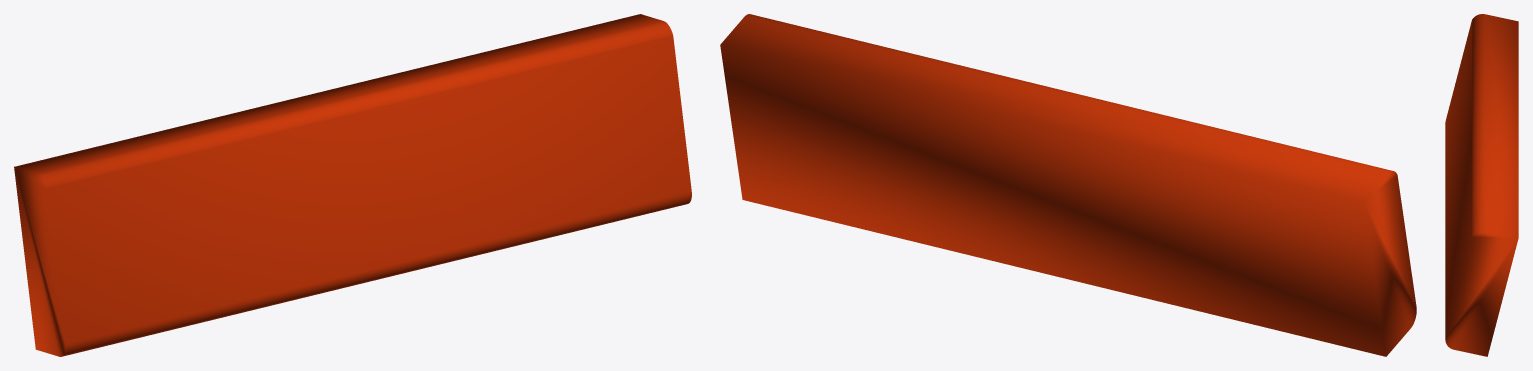
Rendered from original-4.obj.
The picture shows the model from 3 angles, left to right: view 1: azimuth 30°, elevation 25°; view 2: azimuth 150°, elevation 25°; view 3: azimuth 270°, elevation 25°; orthographic projection. The views are drawn at different scales.
Parts seen in each view (by area): view 1: mesh2/mesh2-geometry#mesh2-geometry; view 2: mesh2/mesh2-geometry#mesh2-geometry; view 3: mesh2/mesh2-geometry#mesh2-geometry.
Part boxes in pixels (x1,y1,x2,y2): mesh2/mesh2-geometry#mesh2-geometry: (14, 14, 691, 356); mesh2/mesh2-geometry#mesh2-geometry: (720, 14, 1416, 356); mesh2/mesh2-geometry#mesh2-geometry: (1445, 14, 1518, 356).
Size of the model in its own units: 0.8723 by 0.2358 by 0.1241.
